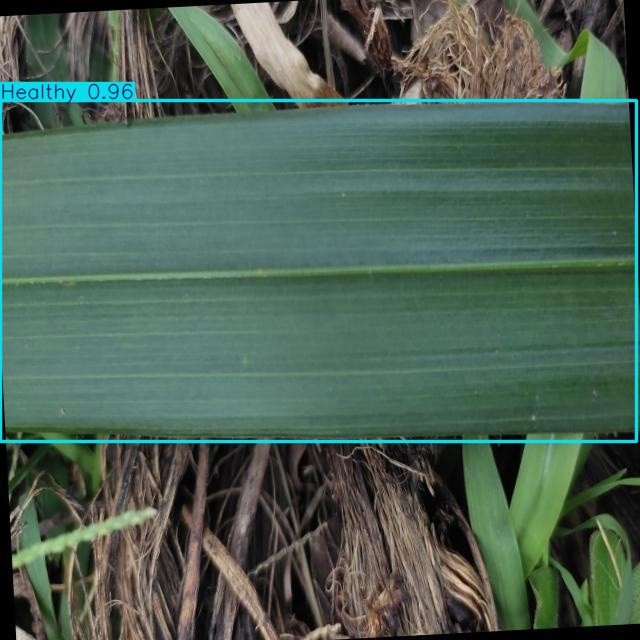Healthy: (0, 100, 637, 441)
